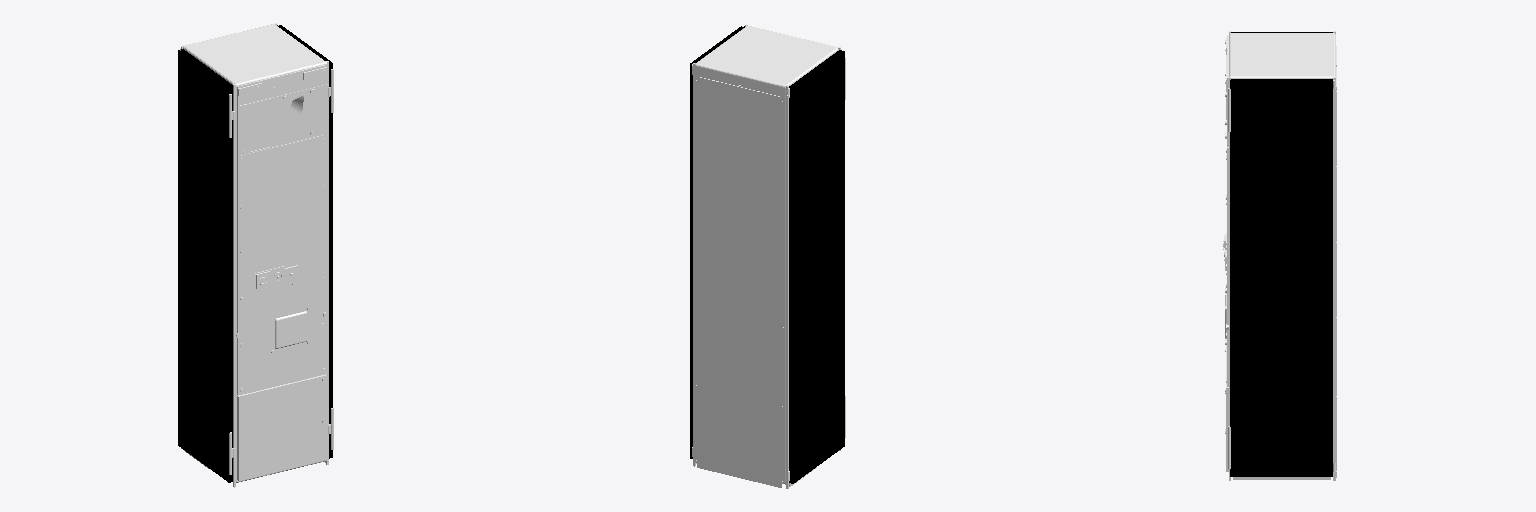
Rendered from ICECube-label-body.obj.
The picture shows the model from 3 angles: view 1: azimuth 30°, elevation 25°; view 2: azimuth 150°, elevation 25°; view 3: azimuth 270°, elevation 25°; orthographic projection.
Parts seen in each view (by area): view 1: ICECube-label-body; view 2: ICECube-label-body; view 3: ICECube-label-body.
Boxes of the visible parts, box(x1,y1,x2,y2) form: ICECube-label-body: box(178, 23, 333, 487); ICECube-label-body: box(690, 24, 845, 488); ICECube-label-body: box(1223, 31, 1336, 480).
Size of the model in its own units: 0.4955 by 1.76 by 0.4489.